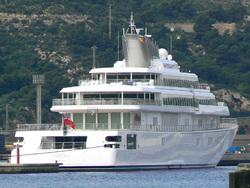yacht: (7, 10, 241, 168)
